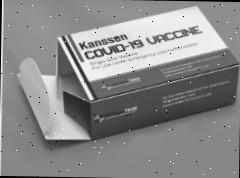paper: (16, 2, 240, 143)
